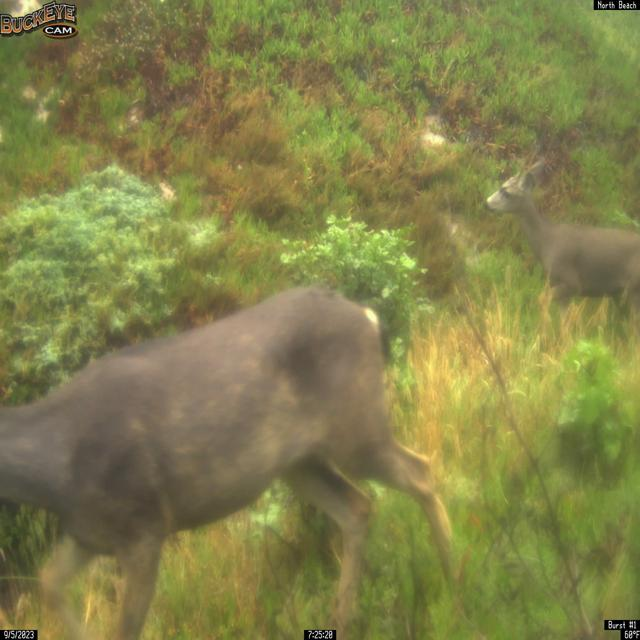deer: (0, 283, 459, 640)
